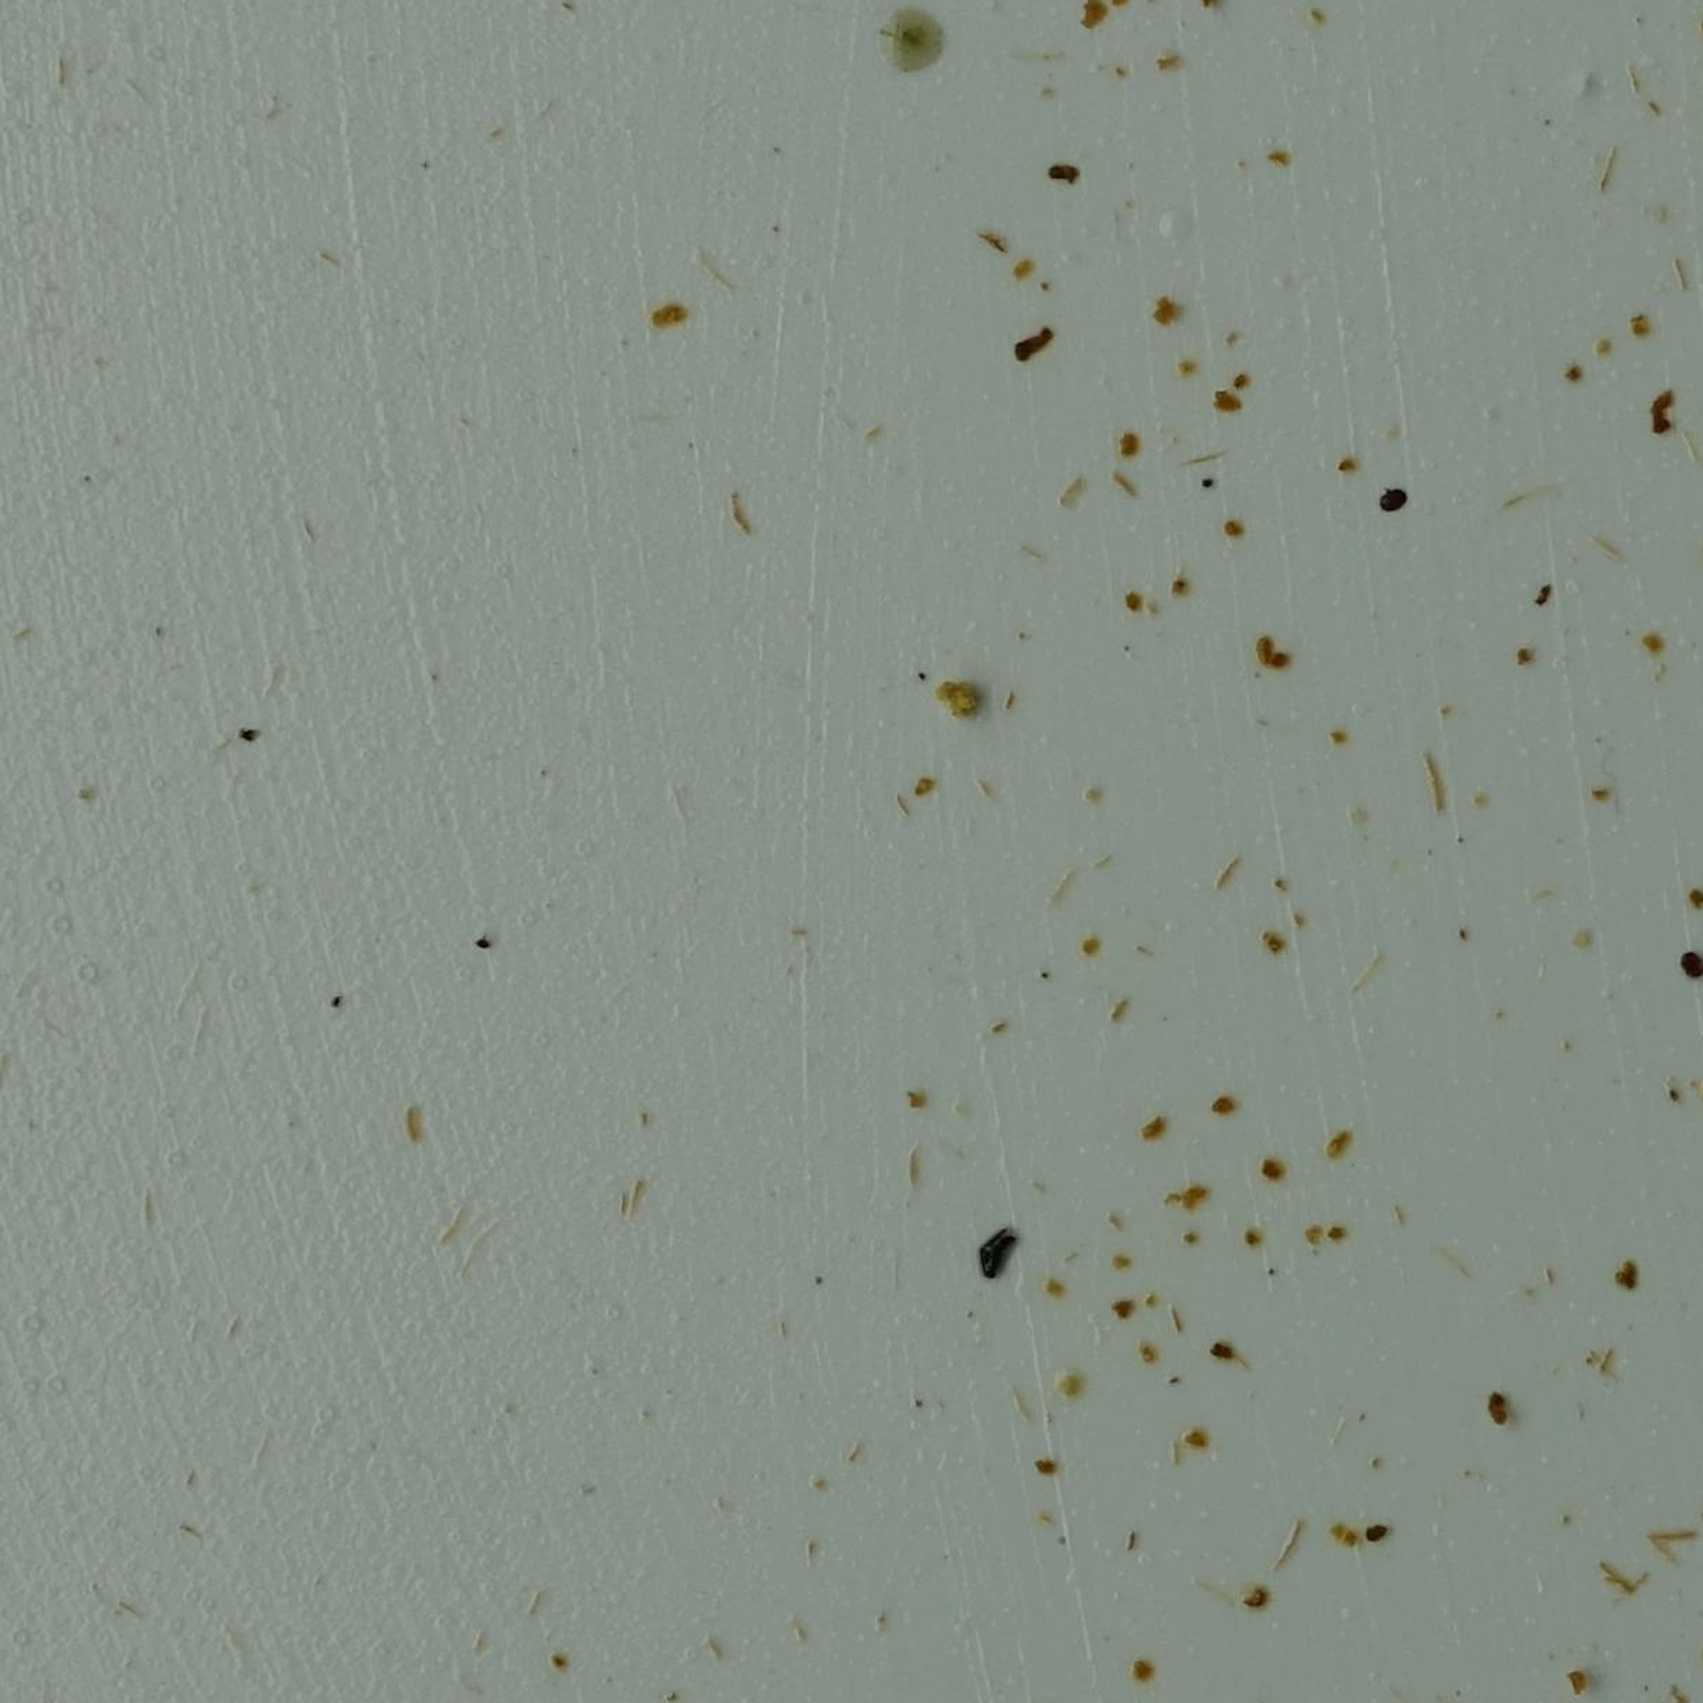Varroa: (1379, 483, 1407, 512)
